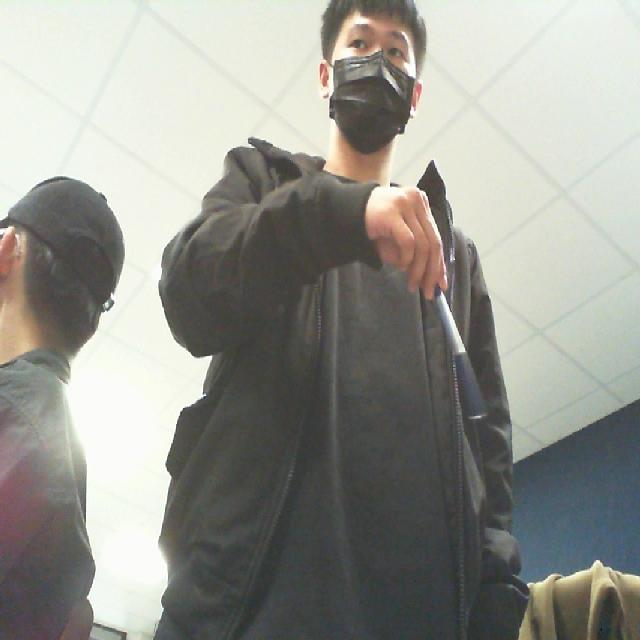Pen: (420, 279, 495, 437)
